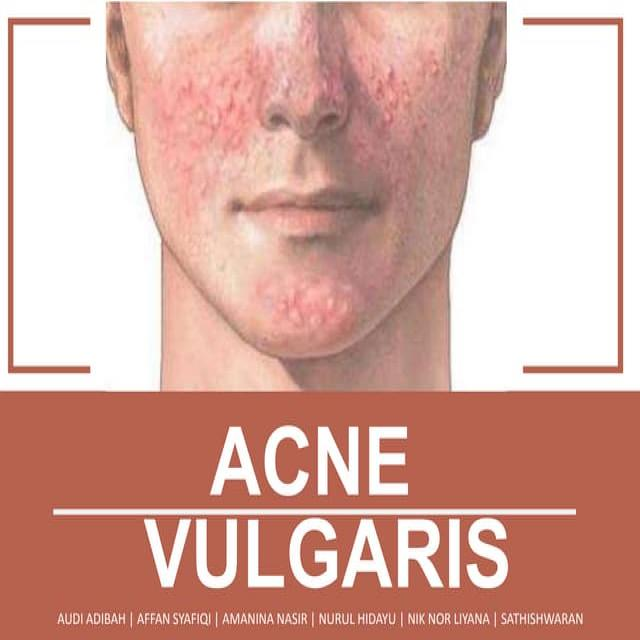acne: (148, 9, 459, 225), (253, 267, 365, 351)
